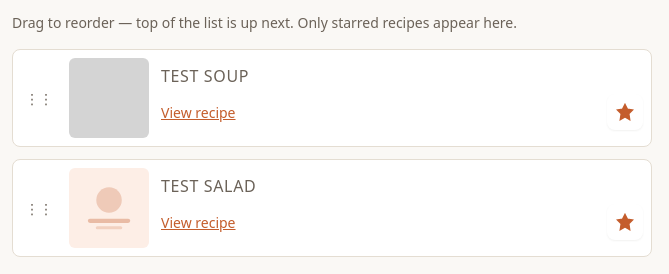
Test: StarredQueue › removes a recipe from the queue when unstarred
Click the button named "Remove Test Soup from starred" at (625,112), box [607,94,643,130]
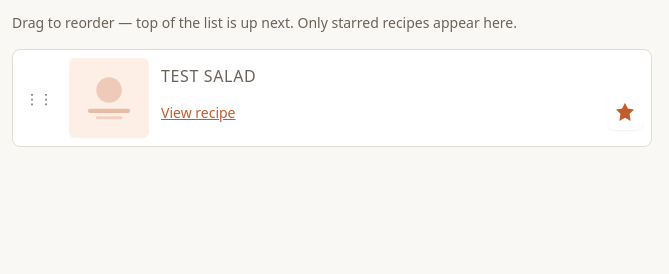
Expected: the text "Test Salad" is shown, [161,65,256,87]
Now the text "Test Soup" is gone
